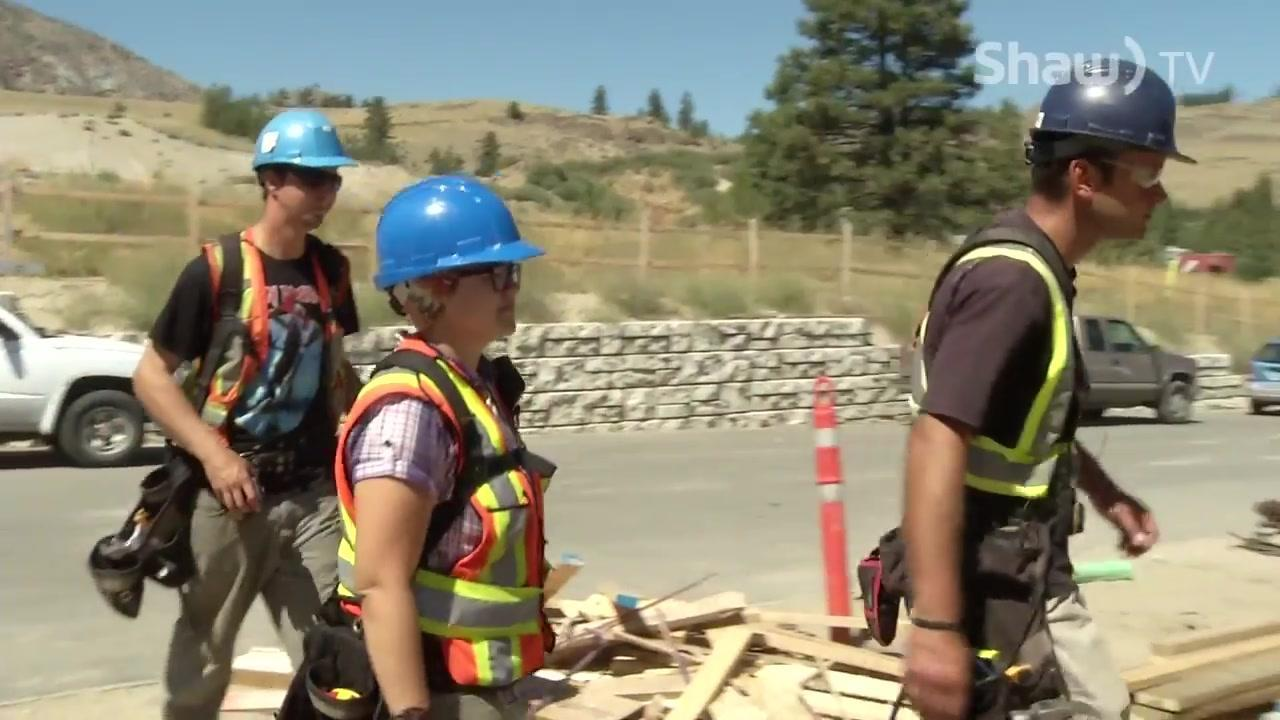vest: (327, 340, 560, 711), (912, 240, 1090, 535), (176, 224, 345, 443)
